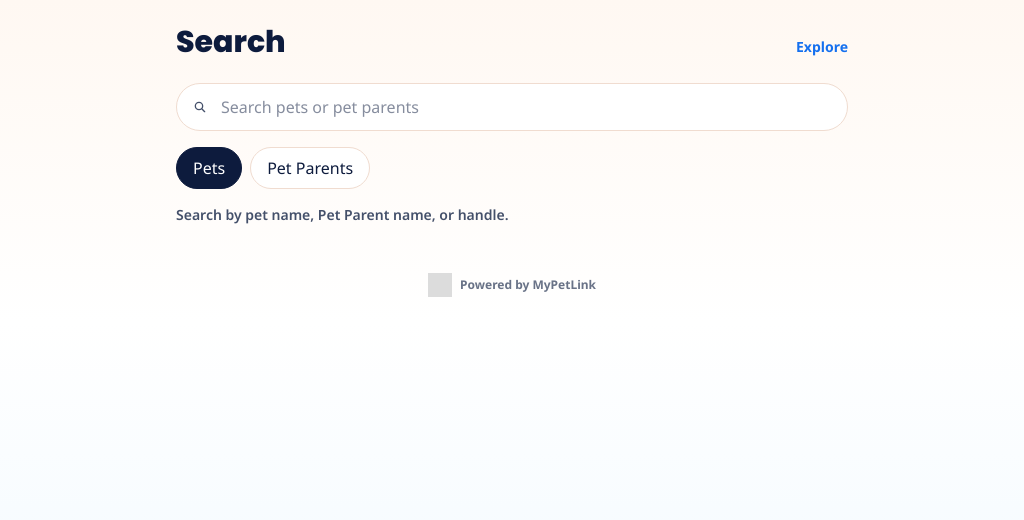
Test: SocialSearchView › echoes the query as typed when an @ search finds nothing
The image size is (1024, 520).
Type "@nobody" into the search field labelled "Search pets or pet parents".
click(512, 107); type("@nobody")  # box 176,83 -> 848,131
Wait 600 ms
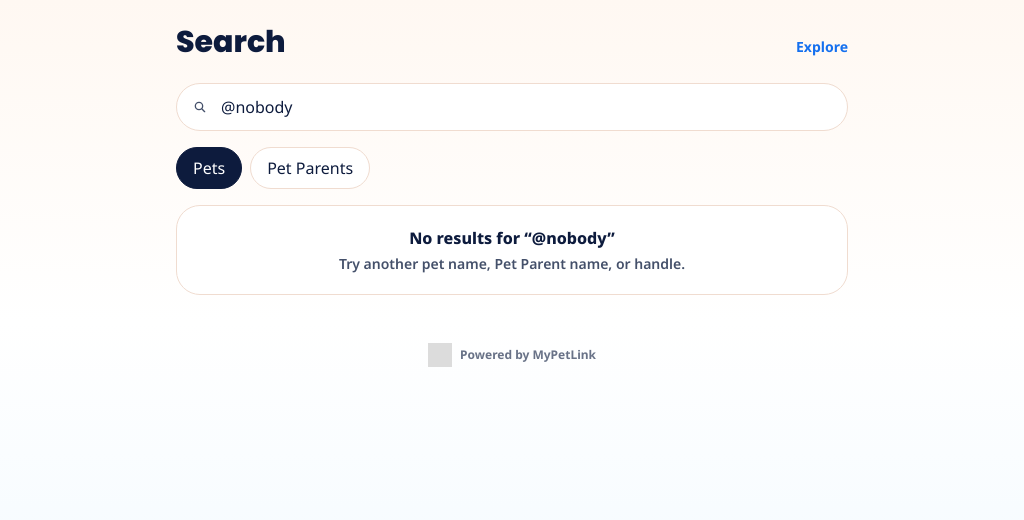
Result: the element with test id "search-pets-empty" shows "No results for “@nobody”" at 409,227 -> 615,249
